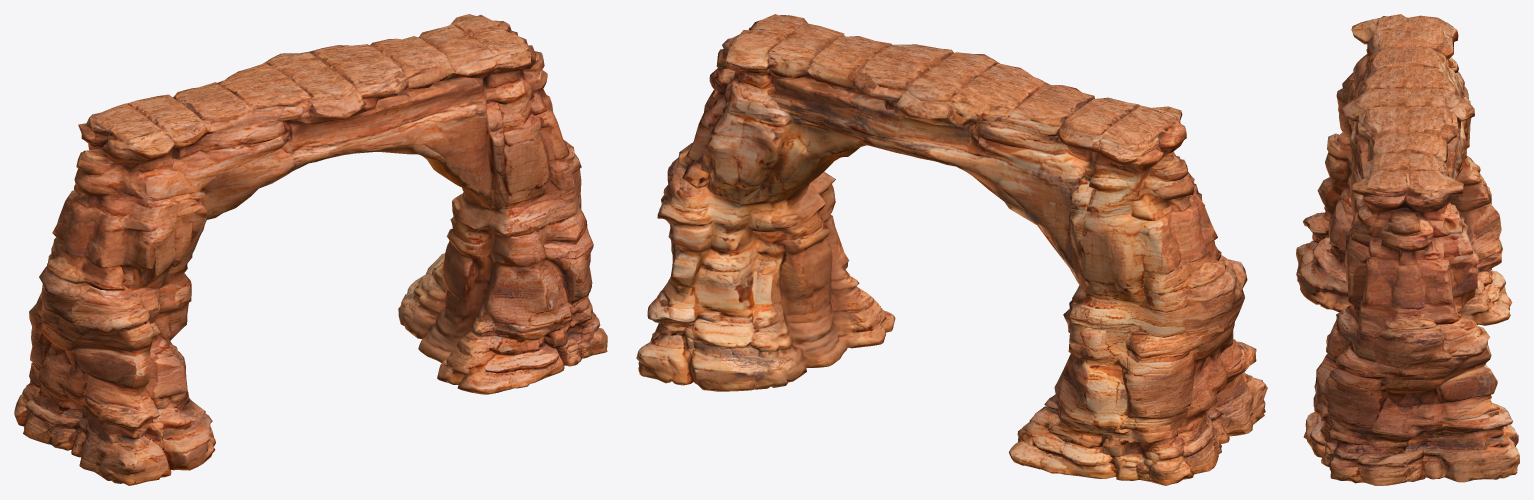
File: sandstone-rock-arch.glb
3 renders of one model, left to right at view 1: azimuth 30°, elevation 25°; view 2: azimuth 150°, elevation 25°; view 3: azimuth 270°, elevation 25°, orthographic. The views are drawn at different scales.
Parts seen in each view (by area): view 1: sandstone-rock-arch; view 2: sandstone-rock-arch; view 3: sandstone-rock-arch.
Part boxes in pixels (left/top/right/bottom): sandstone-rock-arch: left=14, top=14, right=607, bottom=485; sandstone-rock-arch: left=636, top=14, right=1267, bottom=485; sandstone-rock-arch: left=1296, top=14, right=1519, bottom=485.
Bounding box in the file's own units: 24 × 13.31 × 9.79.
Materials: 1 (1 with a texture image).
